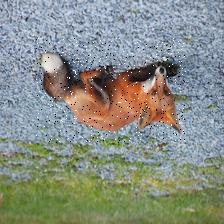fox: (36, 38, 186, 143)
